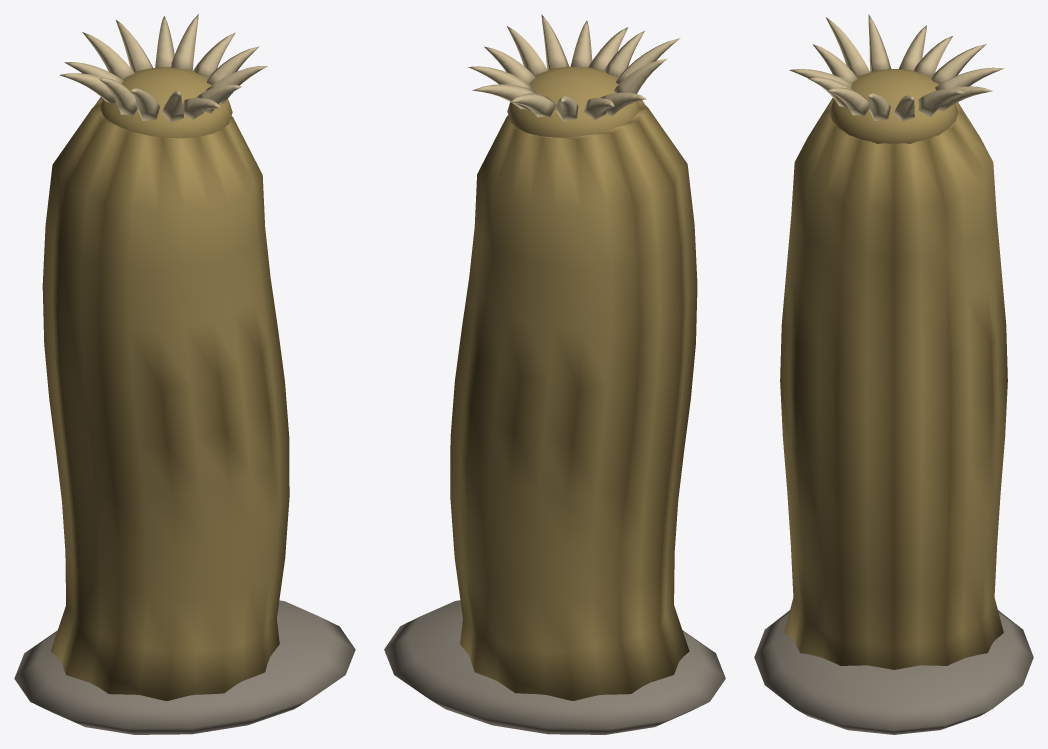
The model's file is Mackenzia.fbx.
The picture shows the model from 3 angles, left to right: view 1: azimuth 30°, elevation 25°; view 2: azimuth 150°, elevation 25°; view 3: azimuth 270°, elevation 25°; orthographic projection. The views are drawn at different scales.
Visible parts, largest first — view 1: Mackenzia; view 2: Mackenzia; view 3: Mackenzia.
Boxes of the visible parts, x1=… form: Mackenzia: x1=14, y1=14, x2=355, y2=734; Mackenzia: x1=384, y1=14, x2=725, y2=734; Mackenzia: x1=754, y1=14, x2=1033, y2=734.
Bounding box in the file's own units: 0.64 × 1.29 × 0.52.
